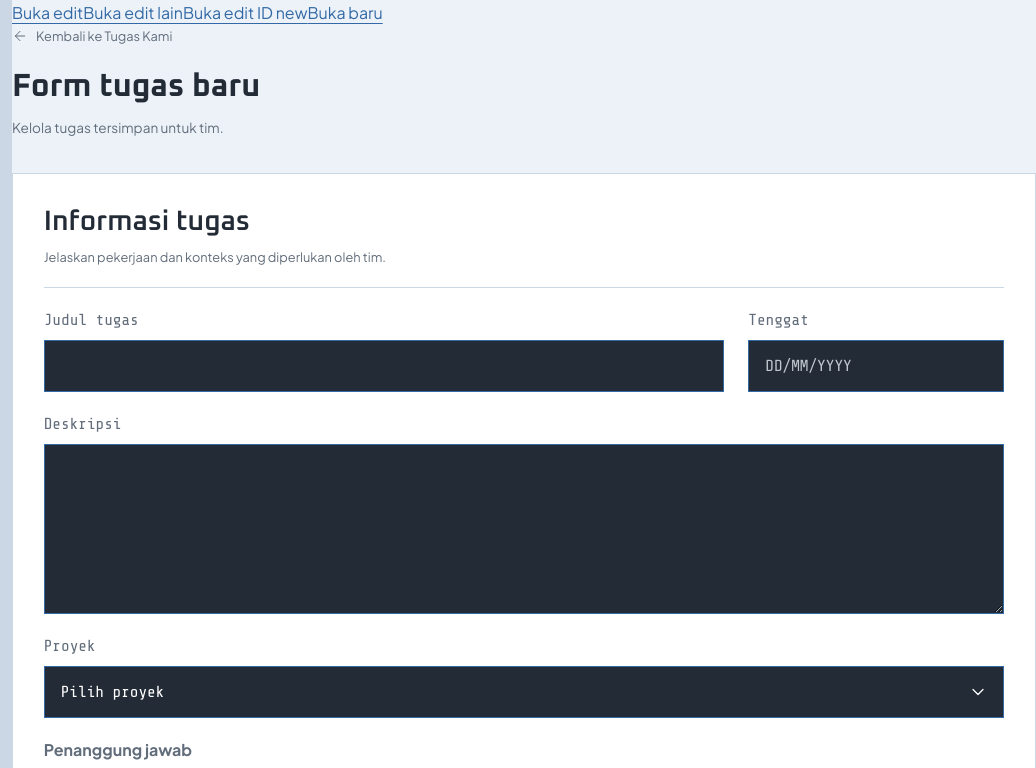
memisahkan route baru dari route edit dengan ID new
Type "Rancangan baru" into the field labelled "Judul tugas" at x=384, y=366, box [44, 340, 724, 392]
(page scrolled)
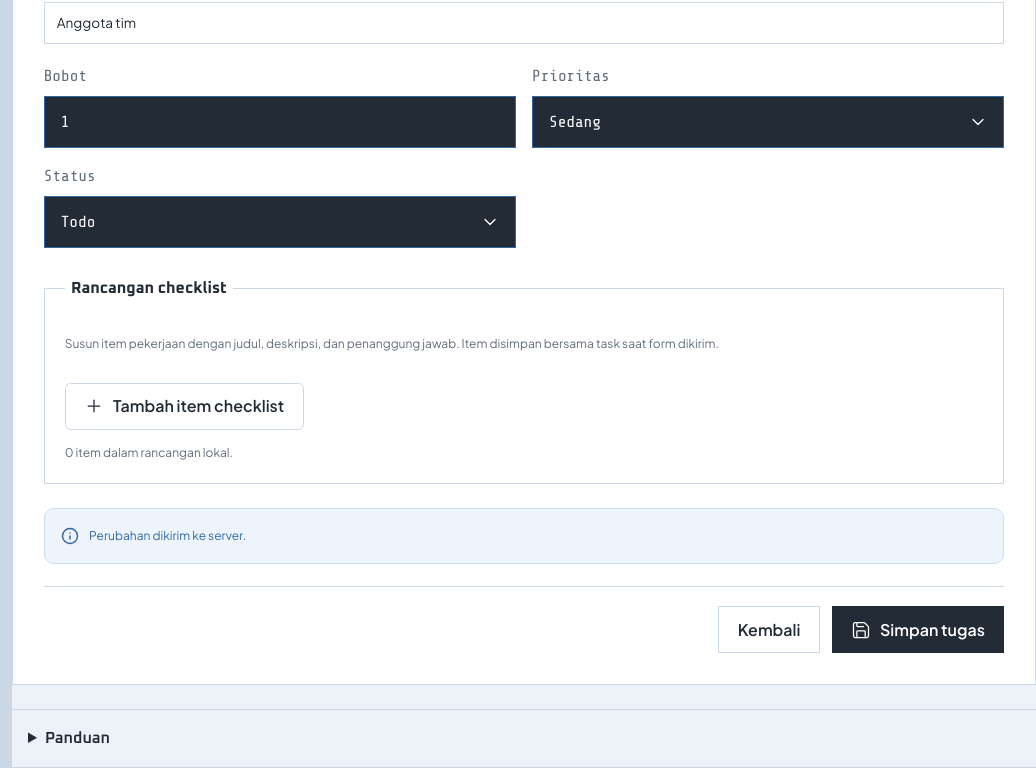
Click the button "Tambah item checklist" at x=184, y=406, box [65, 383, 304, 430]
(page scrolled)
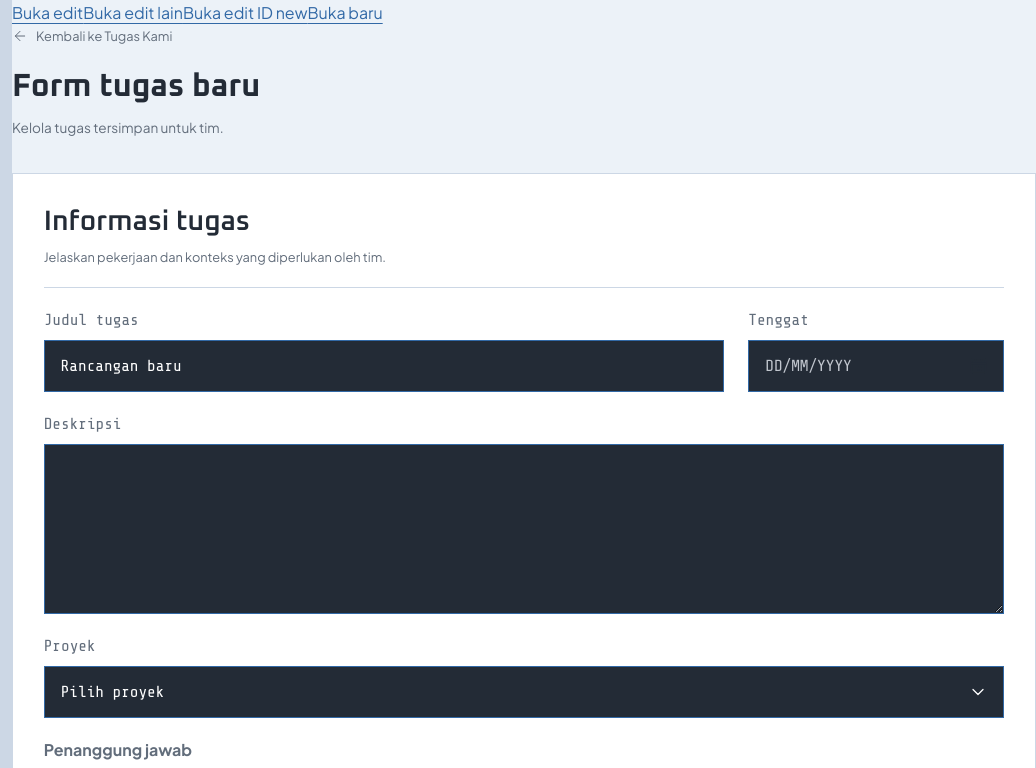
Click the link "Buka edit ID new" at x=245, y=12, box [183, 2, 307, 23]
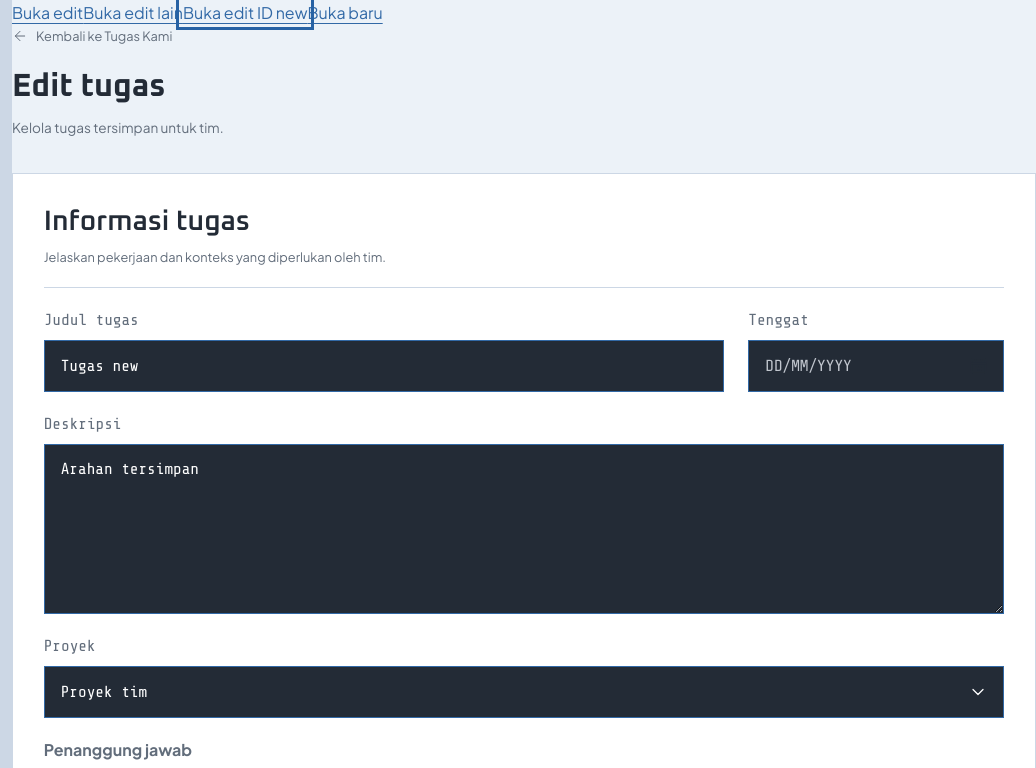
Expected: the field labelled "Judul tugas" holds "Tugas new", [44, 340, 724, 392]
Expected: the field labelled "Judul tugas" is enabled, [44, 340, 724, 392]
Click the link "Buka baru" at x=345, y=12, box [307, 2, 383, 23]
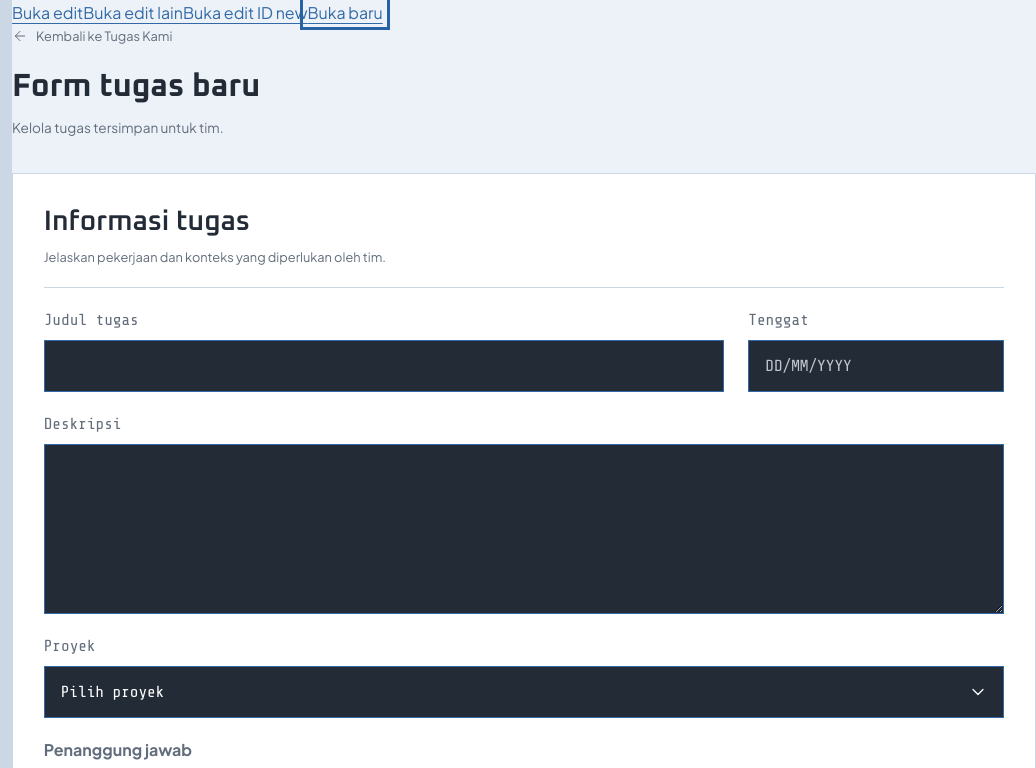
Expected: the field labelled "Judul tugas" is empty, [44, 340, 724, 392]
Expected: the field labelled "Judul tugas" is enabled, [44, 340, 724, 392]
